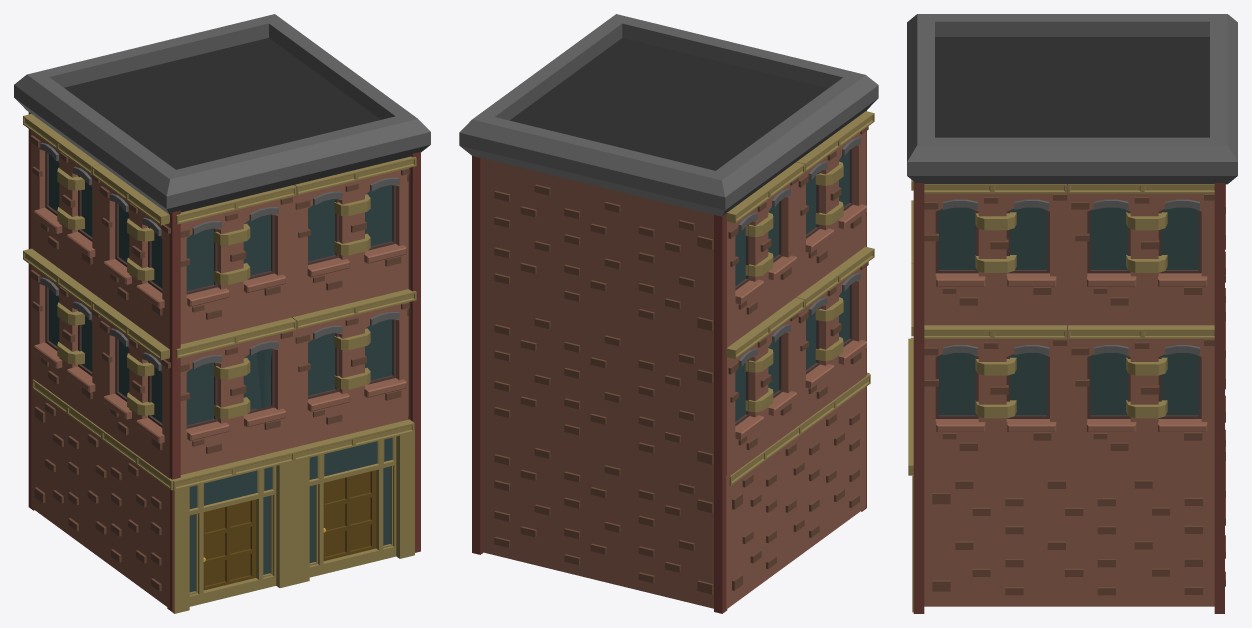
Rendered from edificio_02.fbx.
3 renders of one model, left to right at view 1: azimuth 30°, elevation 25°; view 2: azimuth 150°, elevation 25°; view 3: azimuth 270°, elevation 25°, orthographic. The views are drawn at different scales.
Visible parts, largest first — view 1: edificioSinFracturar_01; view 2: edificioSinFracturar_01; view 3: edificioSinFracturar_01.
Boxes of the visible parts, <box> form: edificioSinFracturar_01: <box>14,14,430,613</box>; edificioSinFracturar_01: <box>459,14,878,613</box>; edificioSinFracturar_01: <box>907,14,1237,613</box>.
Bounding box in the file's own units: 1291 × 2018 × 1288.
